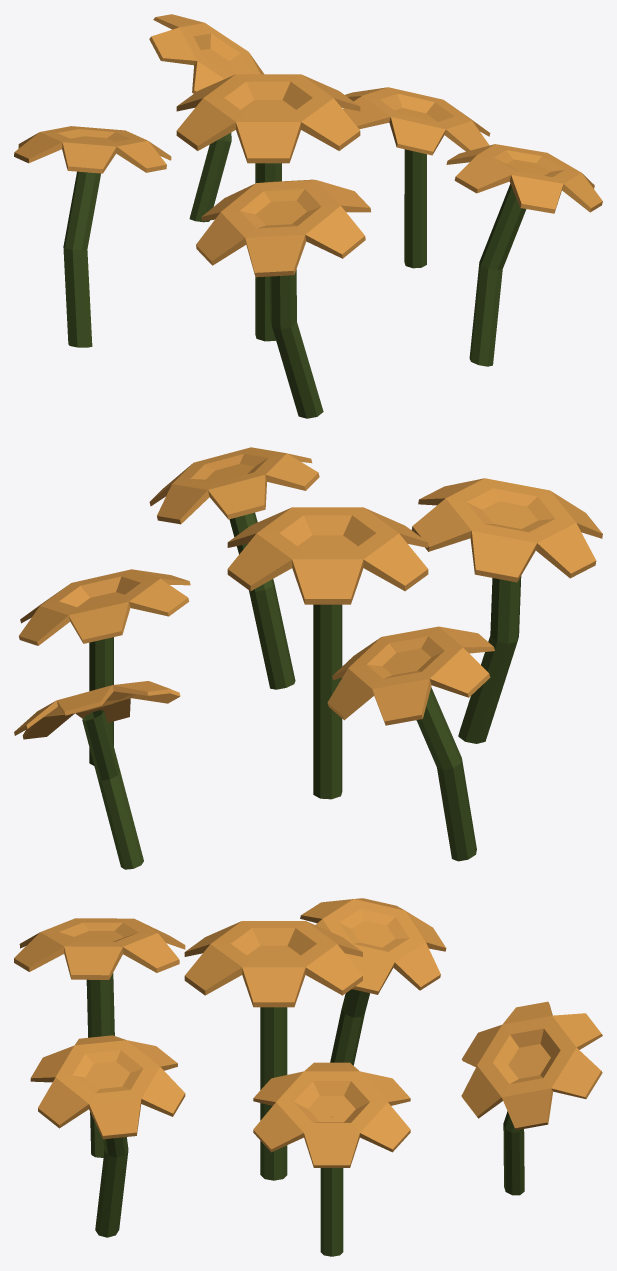
The model's file is Flower_3.fbx.
3 renders of one model, top to bottom at view 1: azimuth 30°, elevation 25°; view 2: azimuth 150°, elevation 25°; view 3: azimuth 270°, elevation 25°, orthographic. The views are drawn at different scales.
Visible parts, largest first — view 1: Flower_3; view 2: Flower_3; view 3: Flower_3.
Part boxes in pixels (x1,y1,x2,y2): Flower_3: (14,14,602,418); Flower_3: (14,447,602,869); Flower_3: (14,898,602,1256).
Size of the model in its own units: 54 by 28.46 by 64.91.
